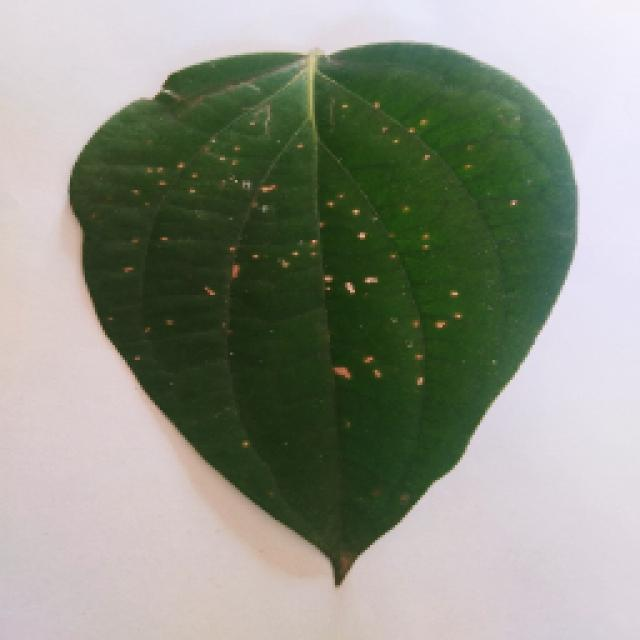pollu-disease: (50, 48, 590, 590)
